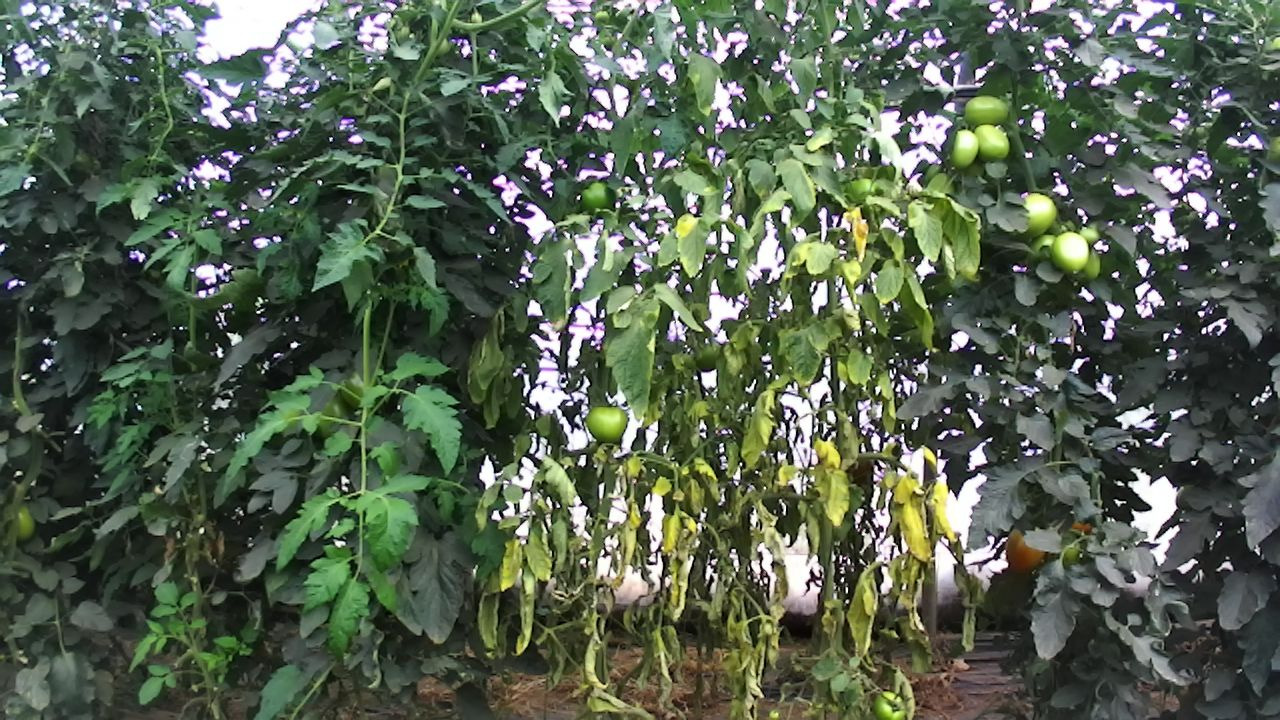tomato: (583, 401, 631, 446), (1003, 527, 1046, 576), (1018, 189, 1060, 239), (1049, 229, 1091, 276), (963, 93, 1008, 127), (972, 122, 1011, 160), (579, 179, 615, 215), (949, 130, 979, 170), (871, 689, 908, 720), (11, 503, 38, 544)
